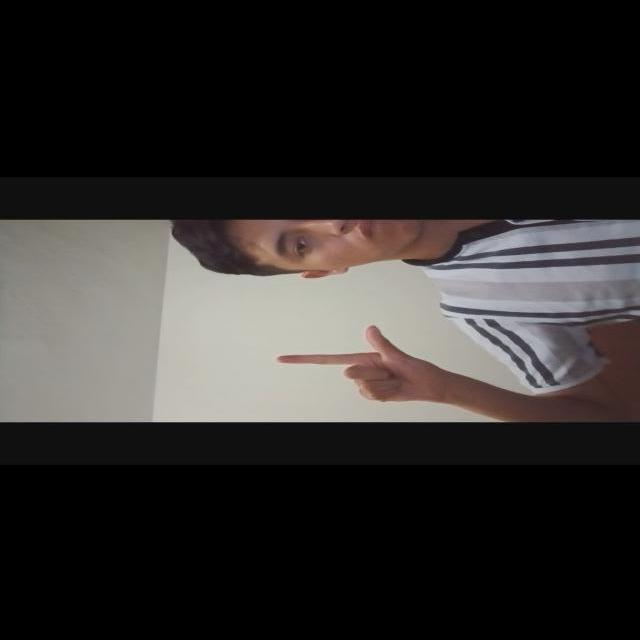L: (274, 317, 424, 408)
